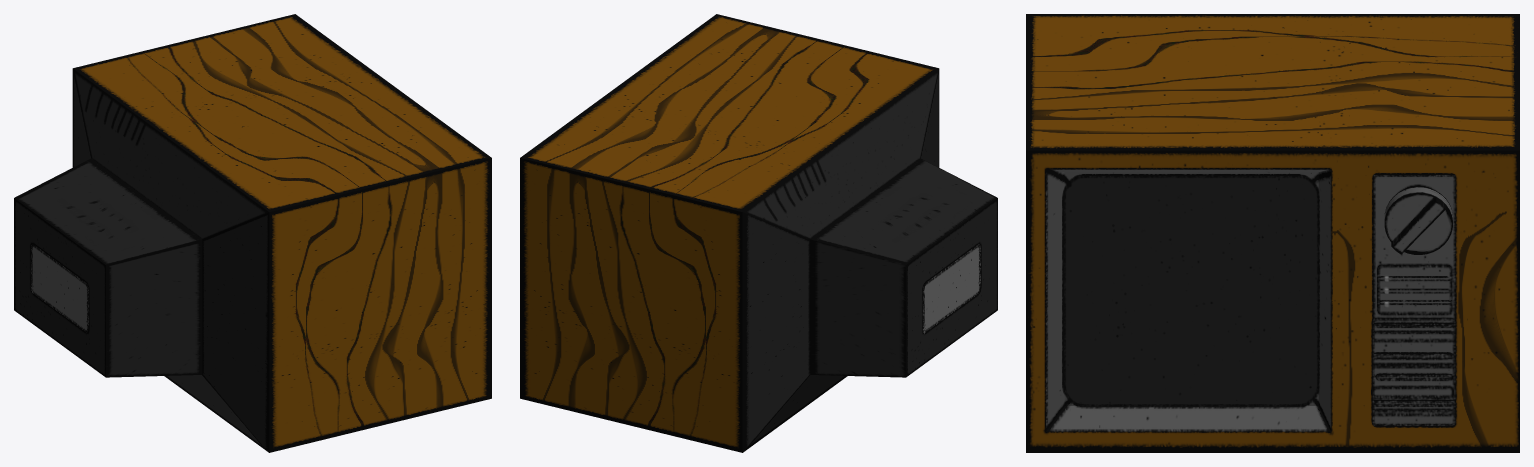
3 renders of one model, left to right at view 1: azimuth 30°, elevation 25°; view 2: azimuth 150°, elevation 25°; view 3: azimuth 270°, elevation 25°, orthographic. The views are drawn at different scales.
Visible parts, largest first — view 1: TV; view 2: TV; view 3: TV.
Part boxes in pixels (x1,y1,x2,y2): TV: [14, 14, 491, 452]; TV: [520, 14, 997, 452]; TV: [1026, 14, 1519, 452].
Bounding box in the file's own units: 2.06 × 1.35 × 2.
